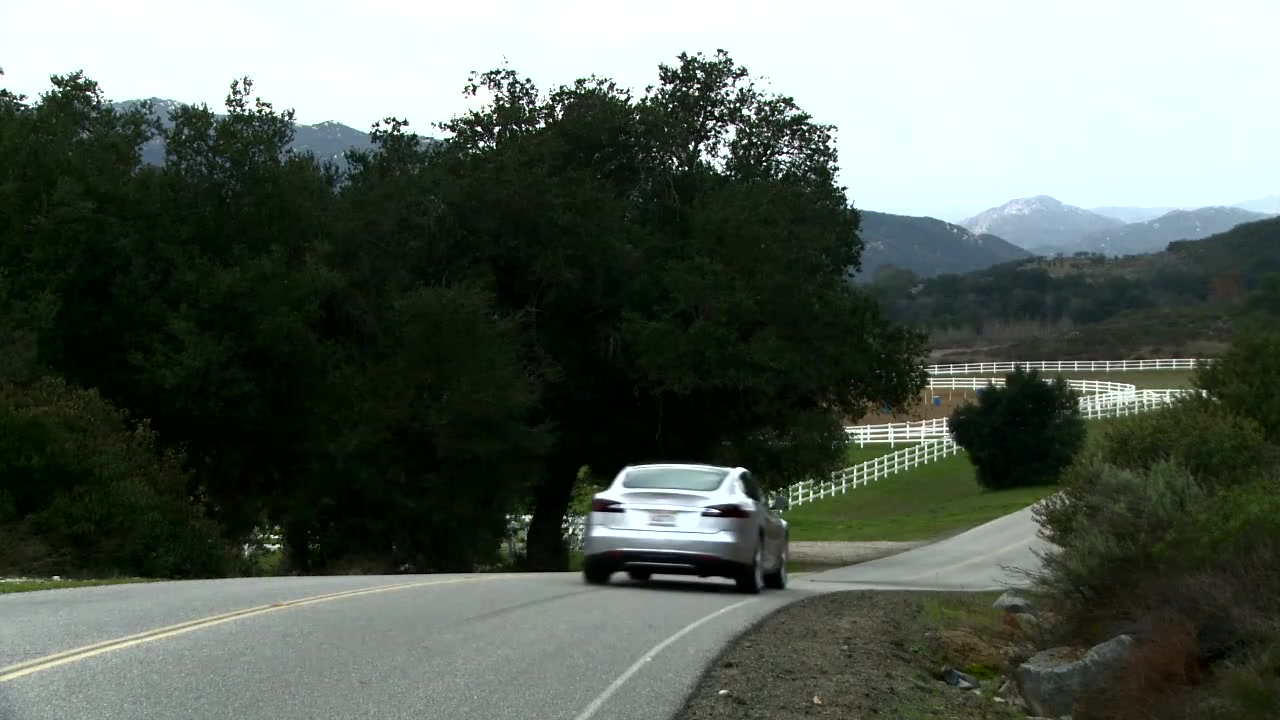car: (579, 456, 796, 599)
